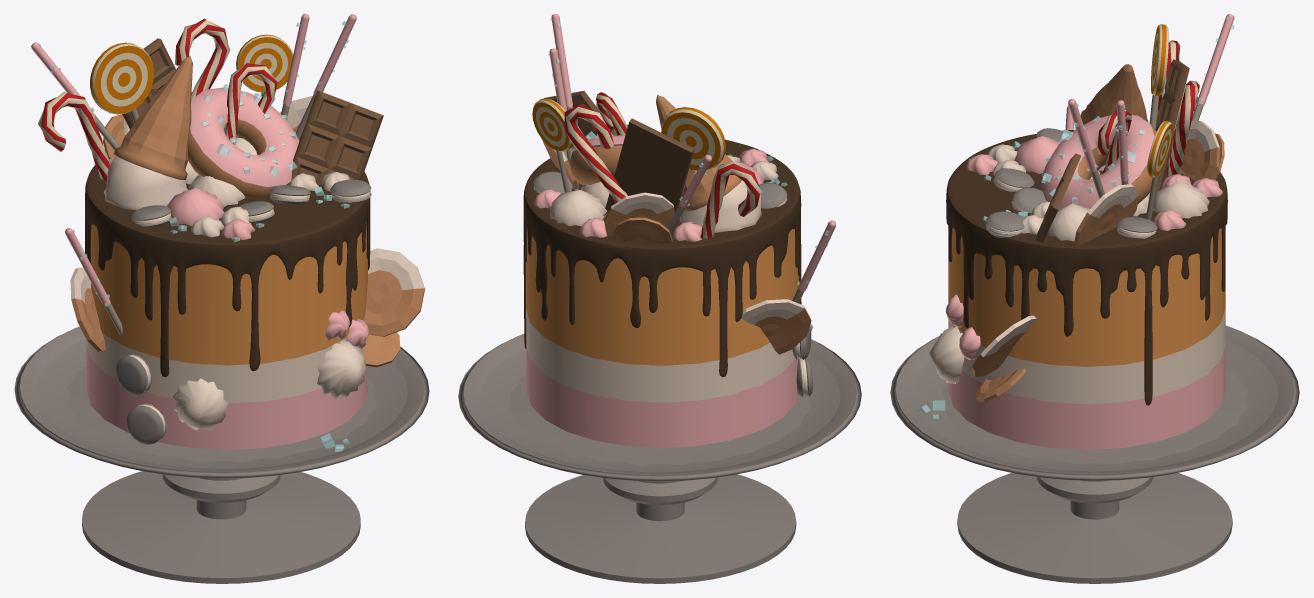
Rendered from cacke.gltf.
3 views of the same model, side by side, from view 1: azimuth 30°, elevation 25°; view 2: azimuth 150°, elevation 25°; view 3: azimuth 270°, elevation 25° (orthographic). The views are drawn at different scales.
Visible parts, largest first — view 1: pCylinder19, pCylinder1, pCylinder3, pCube38, pCylinder18, pCube54, pCylinder30, pCylinder28, pCylinder25, palepink18, palepink17, pCylinder29 (+19 smaller); view 2: pCylinder19, pCylinder1, pCylinder3, pCube70, pCylinder18, pCylinder28, pCylinder35, pCylinder27, pCylinder25, pCylinder33, pCylinder29, palepink12 (+11 smaller); view 3: pCylinder19, pCylinder1, pCylinder3, pCube38, pCylinder32, pCylinder18, pCylinder33, palepink12, pCylinder30, pCube70, pCylinder27, palepink17 (+15 smaller).
Part boxes in pixels (bbox=[...]): pCylinder19: bbox=[14, 326, 429, 583]; pCylinder1: bbox=[86, 222, 367, 449]; pCylinder3: bbox=[85, 165, 370, 377]; pCube38: bbox=[188, 84, 299, 197]; pCylinder18: bbox=[103, 56, 192, 210]; pCube54: bbox=[287, 90, 383, 185]; pCylinder30: bbox=[364, 248, 424, 336]; pCylinder28: bbox=[90, 42, 153, 122]; pCylinder25: bbox=[38, 91, 109, 180]; palepink18: bbox=[172, 378, 228, 429]; palepink17: bbox=[317, 341, 366, 399]; pCylinder29: bbox=[236, 34, 293, 97]; pCylinder19: bbox=[458, 334, 861, 583]; pCylinder1: bbox=[526, 228, 799, 447]; pCylinder3: bbox=[523, 139, 801, 377]; pCube70: bbox=[605, 118, 694, 212]; pCylinder18: bbox=[656, 95, 761, 232]; pCylinder28: bbox=[661, 107, 725, 205]; pCylinder35: bbox=[741, 299, 811, 354]; pCylinder27: bbox=[564, 104, 627, 202]; pCylinder25: bbox=[700, 161, 762, 238]; pCylinder33: bbox=[604, 192, 675, 236]; pCylinder29: bbox=[532, 98, 573, 192]; palepink12: bbox=[549, 190, 606, 226]; pCylinder19: bbox=[890, 325, 1299, 583]; pCylinder1: bbox=[948, 228, 1225, 449]; pCylinder3: bbox=[946, 130, 1227, 405]; pCube38: bbox=[1041, 114, 1161, 209]; pCylinder32: bbox=[1073, 184, 1139, 246]; pCylinder18: bbox=[1075, 64, 1148, 170]; pCylinder33: bbox=[1166, 121, 1219, 180]; palepink12: bbox=[1152, 180, 1209, 218]; pCylinder30: bbox=[972, 315, 1036, 376]; pCube70: bbox=[1155, 59, 1189, 194]; pCylinder27: bbox=[1166, 80, 1199, 177]; palepink17: bbox=[929, 326, 964, 383].
Bounding box in the file's own units: 2.36 × 3.08 × 2.36.
